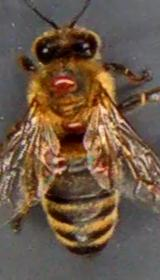varroa_mite: (43, 61, 94, 99), (44, 148, 68, 177), (60, 112, 90, 133)
